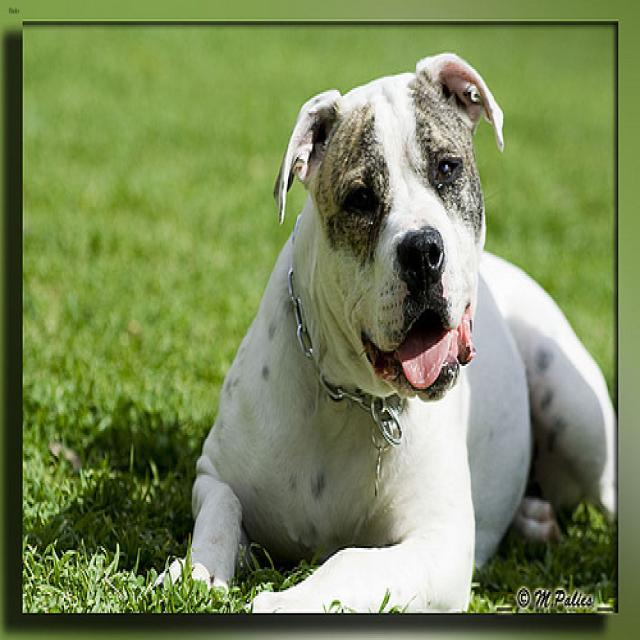dog-american_bulldog: (170, 42, 620, 636)
